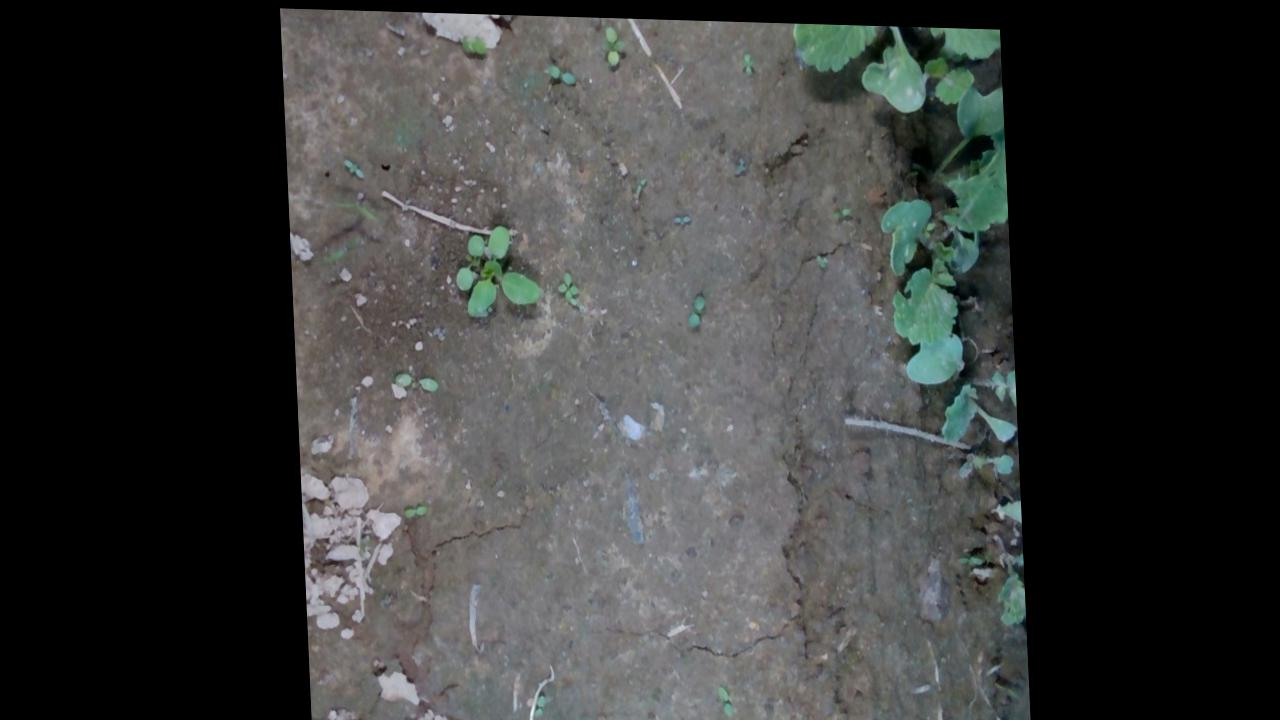weed: (598, 22, 627, 67), (389, 370, 434, 391), (552, 270, 576, 304), (684, 290, 703, 327), (545, 63, 576, 83), (708, 682, 727, 713), (339, 156, 362, 176), (524, 691, 540, 719), (738, 47, 756, 71), (398, 501, 424, 515)
